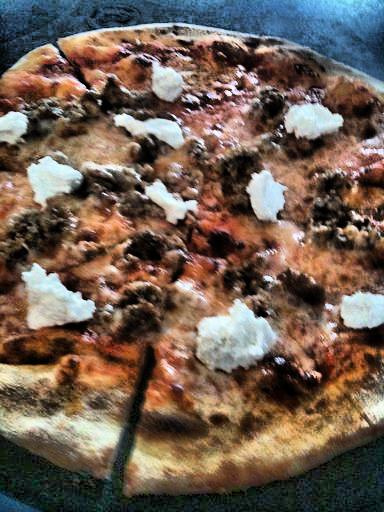pizza: (2, 42, 384, 471)
